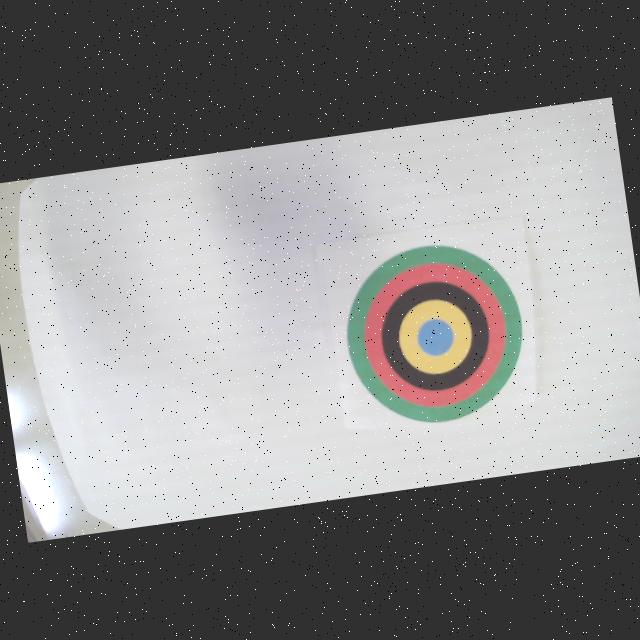COGNITIVE: (334, 232, 534, 434)
